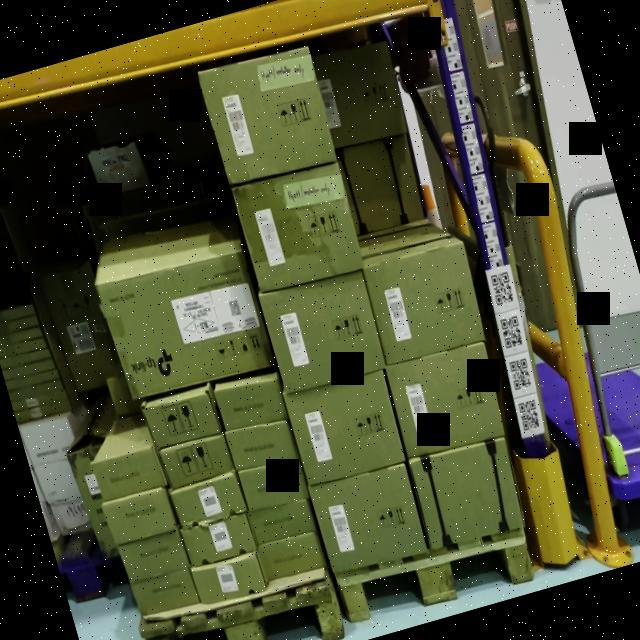box: (95, 249, 275, 399), (198, 42, 336, 188), (233, 166, 363, 292), (259, 271, 384, 391), (284, 369, 406, 488), (364, 244, 484, 362), (385, 346, 504, 457), (411, 436, 523, 550), (310, 466, 426, 572), (39, 257, 121, 391), (311, 42, 407, 147), (336, 136, 425, 233), (66, 442, 120, 559), (141, 390, 221, 448), (158, 431, 235, 490), (180, 509, 255, 568), (102, 488, 176, 546), (169, 473, 245, 529), (91, 446, 165, 502), (117, 529, 189, 582), (191, 552, 265, 601), (225, 420, 297, 470), (215, 378, 287, 427), (237, 459, 307, 509), (87, 143, 149, 198), (256, 533, 326, 581), (247, 498, 317, 545), (131, 569, 200, 615), (17, 416, 75, 465), (33, 460, 81, 505), (50, 499, 94, 535), (14, 399, 71, 423), (5, 367, 59, 392), (10, 388, 67, 410), (1, 357, 55, 379), (8, 379, 64, 400), (0, 346, 51, 368), (0, 335, 47, 356), (0, 326, 42, 346), (0, 314, 38, 334), (0, 300, 35, 321)
